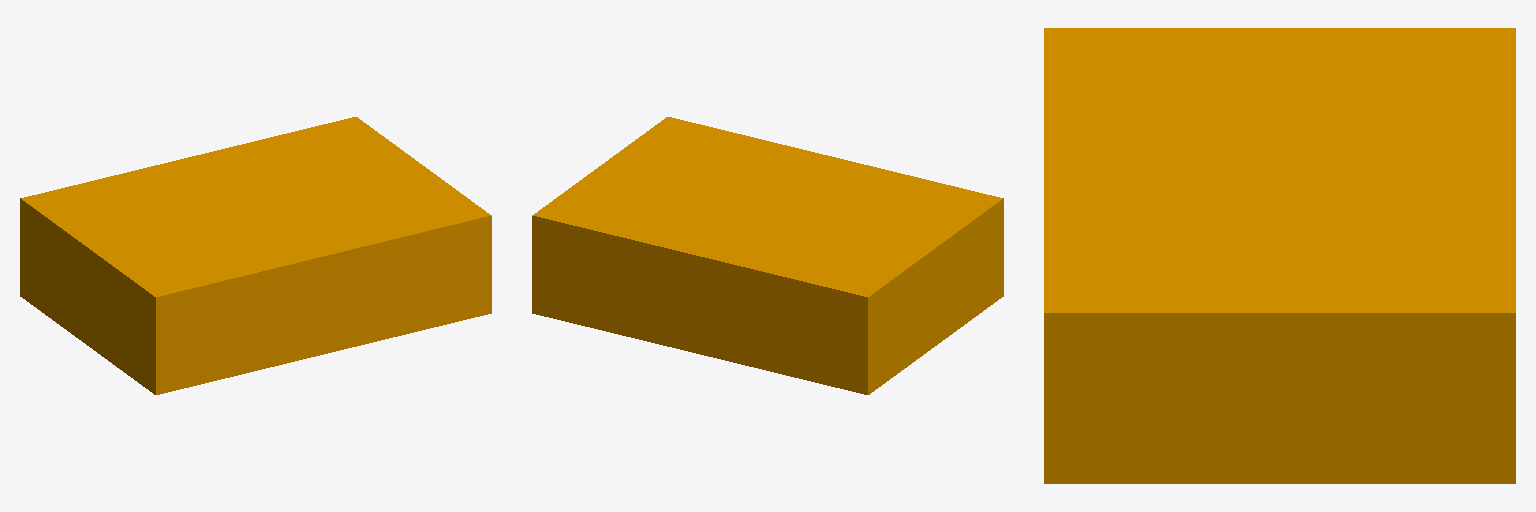
URDF robot description (2x2):
<?xml version='1.0' encoding='UTF-8'?>
<robot name="2x2">
  <link name="base_link">
    <inertial>
      <origin xyz="0.0 0.0 0.0" rpy="0.0 0.0 0.0"/>
      <mass value="0.01"/>
      <inertia ixx="0.1" ixy="0.0" ixz="0.0" iyy="0.1" iyz="0.0" izz="0.1"/>
    </inertial>
    <visual>
      <geometry>
        <box size="0.043 0.03  0.012"/>
      </geometry>
      <material name=""/>
      <origin xyz="0.0 0.0 0.0" rpy="0.0 0.0 0.0"/>
    </visual>
    <collision>
      <geometry>
        <box size="0.043 0.03  0.012"/>
      </geometry>
      <origin xyz="0.0 0.0 0.0" rpy="0.0 0.0 0.0"/>
    </collision>
  </link>
  <material name="">
    <color rgba="0.76012731 0.64710372 0.18840924 1.        "/>
  </material>
  <contact>
    <lateral_friction value="1.0"/>
    <rolling_friction value="0.0"/>
    <contact_cfm value="0.0"/>
    <contact_erp value="1.0"/>
  </contact>
</robot>

--- What the picture shows (computed from the rendered views, not written in the file) ---
Views: 3 orthographic renders of the robot side by side, from view 1: azimuth 30°, elevation 25°; view 2: azimuth 150°, elevation 25°; view 3: azimuth 270°, elevation 25°.
Model 2x2 with 1 links and 0 joints (none), rooted at base_link, posed every joint at zero.
Links seen in each view (by area): view 1: base_link; view 2: base_link; view 3: base_link.
Link boxes in pixels (x1=…): base_link: x1=20, y1=117, x2=491, y2=394; base_link: x1=532, y1=117, x2=1003, y2=394; base_link: x1=1044, y1=28, x2=1515, y2=483.
Size in the robot's own frame: 0.043 by 0.03 by 0.012 metres.
Geometry: primitives only (box / cylinder / sphere), no mesh files.